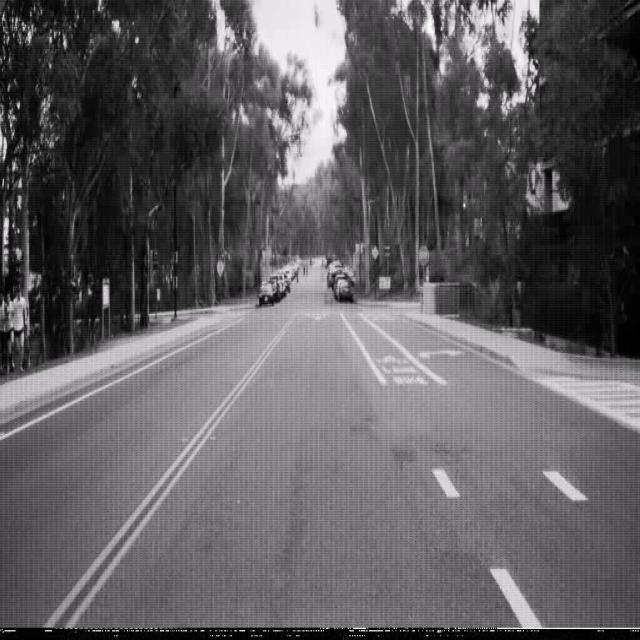stop_sign: (418, 244, 429, 265)
